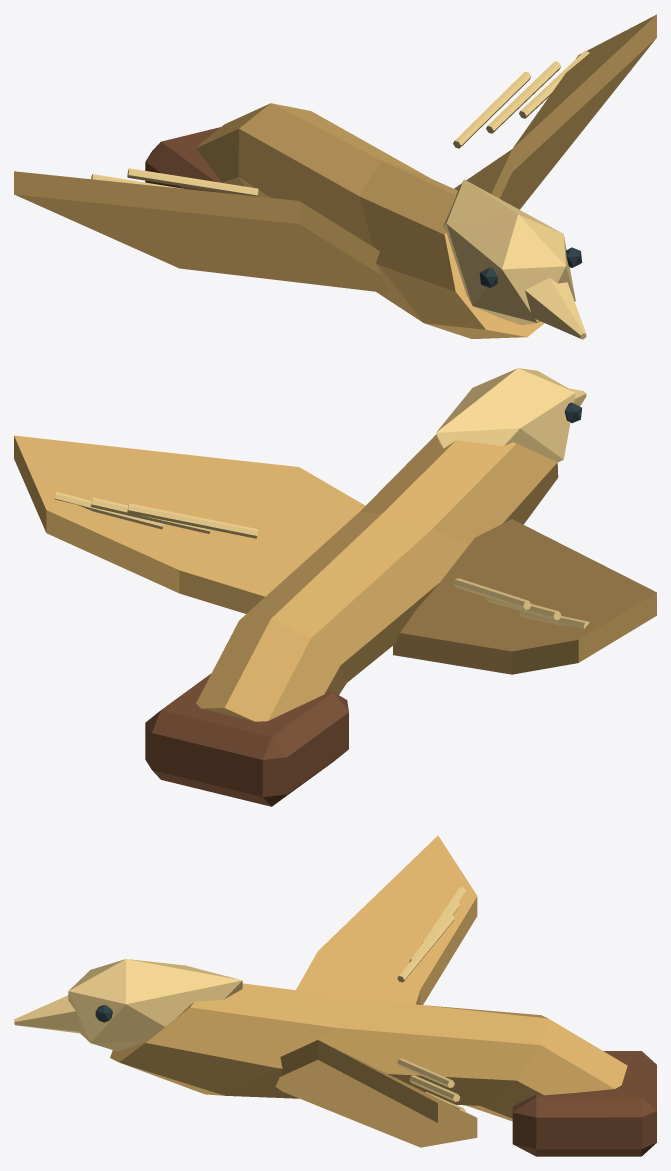
File: gull.glb
3 views of the same model, one above another, from view 1: azimuth 30°, elevation 25°; view 2: azimuth 150°, elevation 25°; view 3: azimuth 270°, elevation 25° (orthographic). The views are drawn at different scales.
Parts seen in each view (by area): view 1: Gull breast, Swept gull wing, Gull head, Swept gull wing.001, Figurehead saddle, Gull beak, Carved feather, Carved feather.003, Carved feather.004, Carved feather.005; view 2: Gull breast, Swept gull wing.001, Swept gull wing, Figurehead saddle, Gull head, Carved feather.003, Carved feather, Carved feather.004, Carved feather.005; view 3: Gull breast, Swept gull wing, Swept gull wing.001, Figurehead saddle, Gull head, Gull beak, Carved feather, Carved feather.003, Carved feather.004.
Part boxes in pixels (x1,y1,x2,y2): Gull breast: [196, 103, 544, 338]; Swept gull wing: [14, 171, 388, 292]; Gull head: [443, 179, 575, 325]; Swept gull wing.001: [454, 14, 656, 209]; Figurehead saddle: [145, 127, 222, 192]; Gull beak: [525, 278, 586, 339]; Carved feather: [127, 168, 258, 196]; Carved feather.003: [453, 71, 531, 148]; Carved feather.004: [486, 61, 561, 133]; Carved feather.005: [519, 51, 589, 118]; Gull breast: [196, 434, 558, 721]; Swept gull wing.001: [14, 435, 365, 613]; Swept gull wing: [393, 519, 656, 674]; Figurehead saddle: [145, 673, 348, 806]; Gull head: [436, 368, 575, 462]; Carved feather.003: [127, 503, 258, 538]; Carved feather: [453, 578, 531, 609]; Carved feather.004: [90, 497, 210, 533]; Carved feather.005: [54, 492, 163, 529]; Gull breast: [110, 983, 627, 1121]; Swept gull wing: [296, 835, 477, 1004]; Swept gull wing.001: [275, 1040, 477, 1147]; Figurehead saddle: [512, 1051, 656, 1156]; Gull head: [68, 959, 242, 1051]; Gull beak: [14, 995, 81, 1033]; Carved feather: [397, 914, 454, 982]; Carved feather.003: [397, 1058, 454, 1087]; Carved feather.004: [409, 1075, 460, 1101].
Bounding box in the file's own units: 2.38 × 0.7566 × 2.41.
